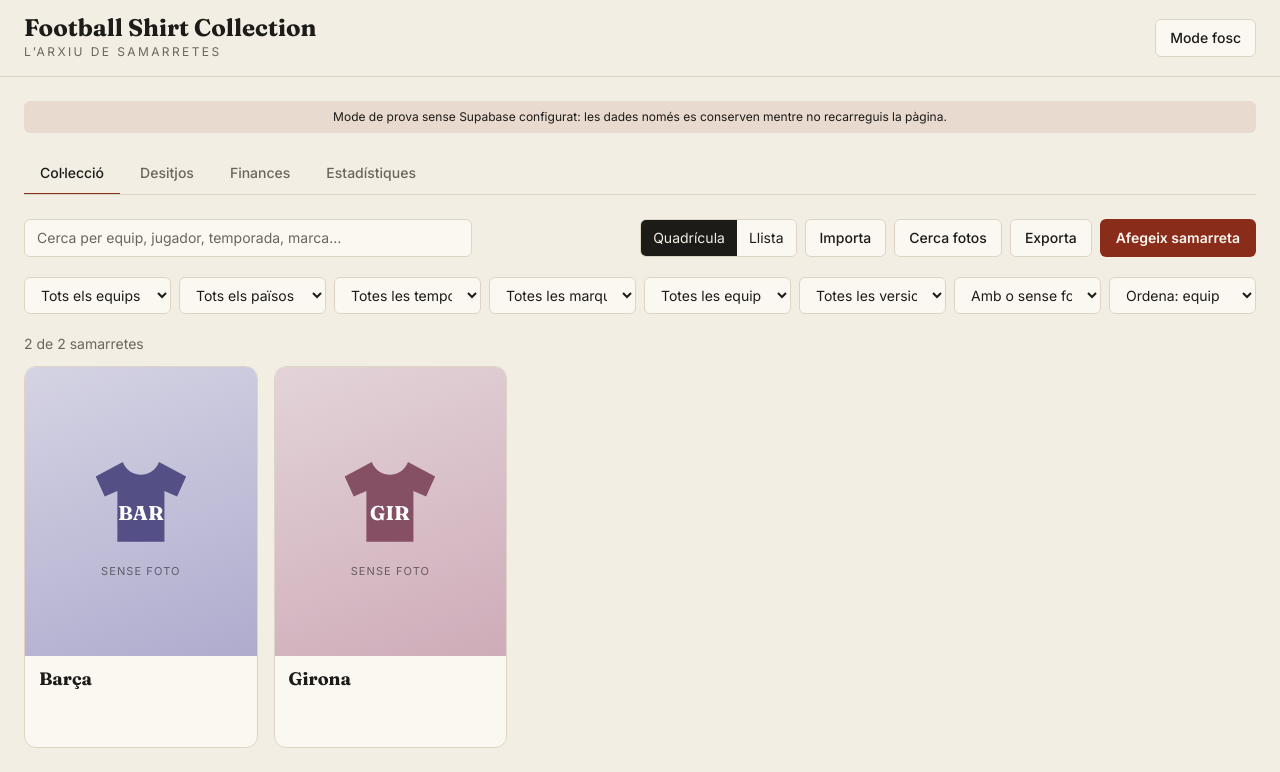
Test: Finances i estadístiques › mostra els imports, mai inventa preus i permet desar un pressupost
The width and height of the screenshot is (1280, 772).
Click the button "Finances".
click(260, 174)  # box [214, 153, 306, 195]
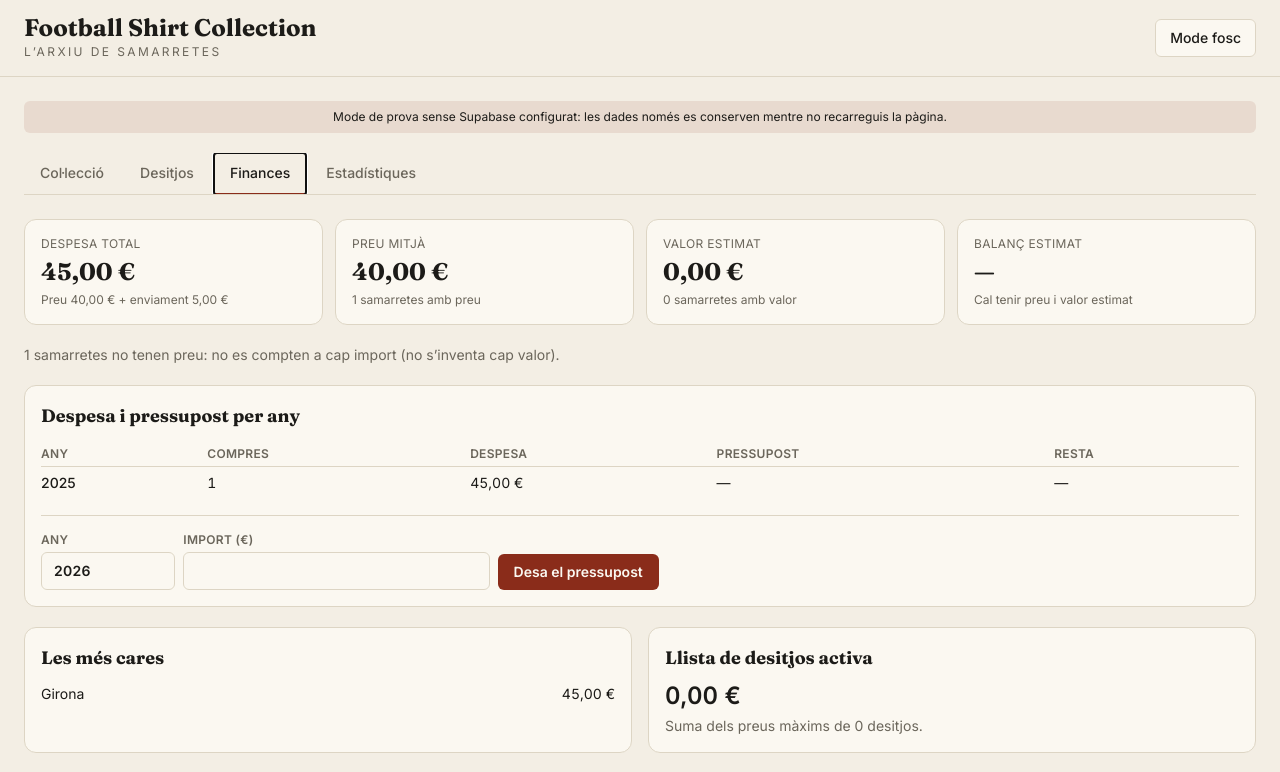
Result: the text "Despesa total" is shown at [41, 236, 141, 251]
Result: the text "1 samarretes no tenen preu" is shown at [24, 346, 560, 363]
Replace the text in the number field named "Any del pressupost" with "2025" at point(108, 571), box [41, 552, 175, 590]
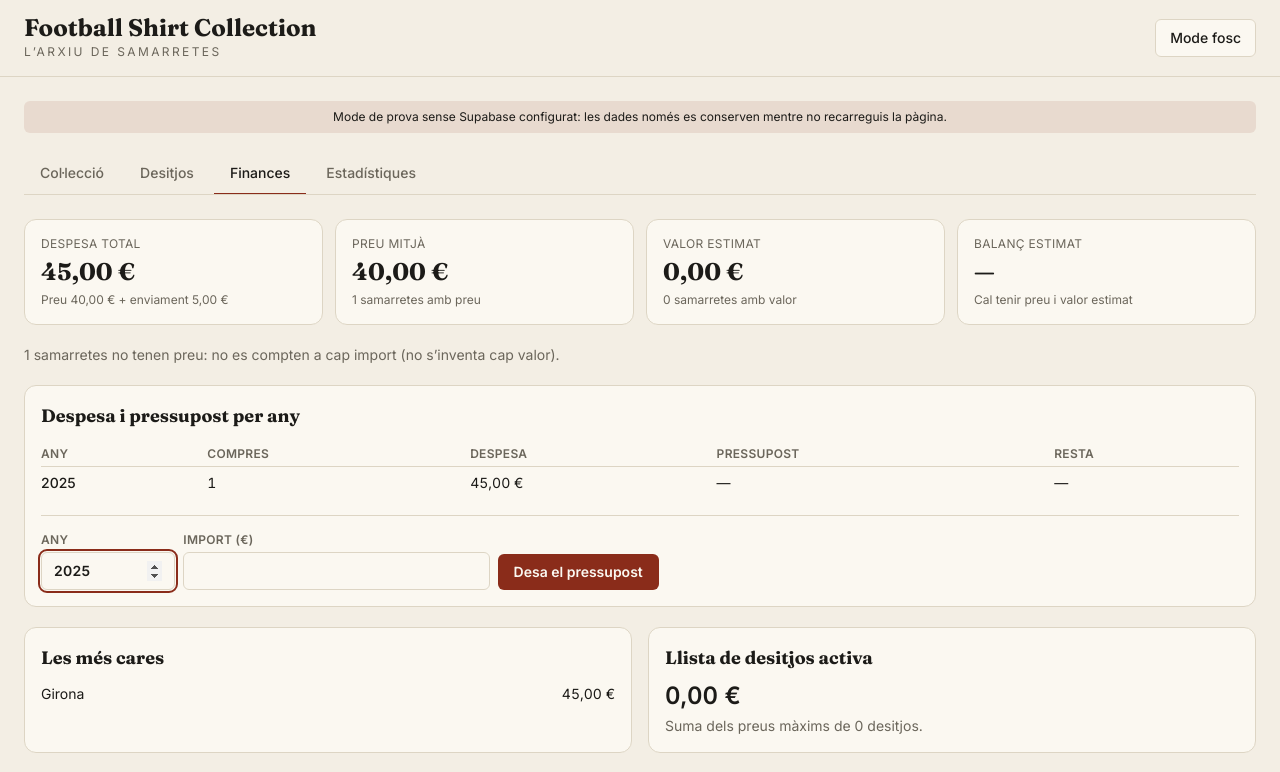
Type "100" into the field named "Import del pressupost".
click(336, 571); type("100")  # box [183, 552, 490, 590]
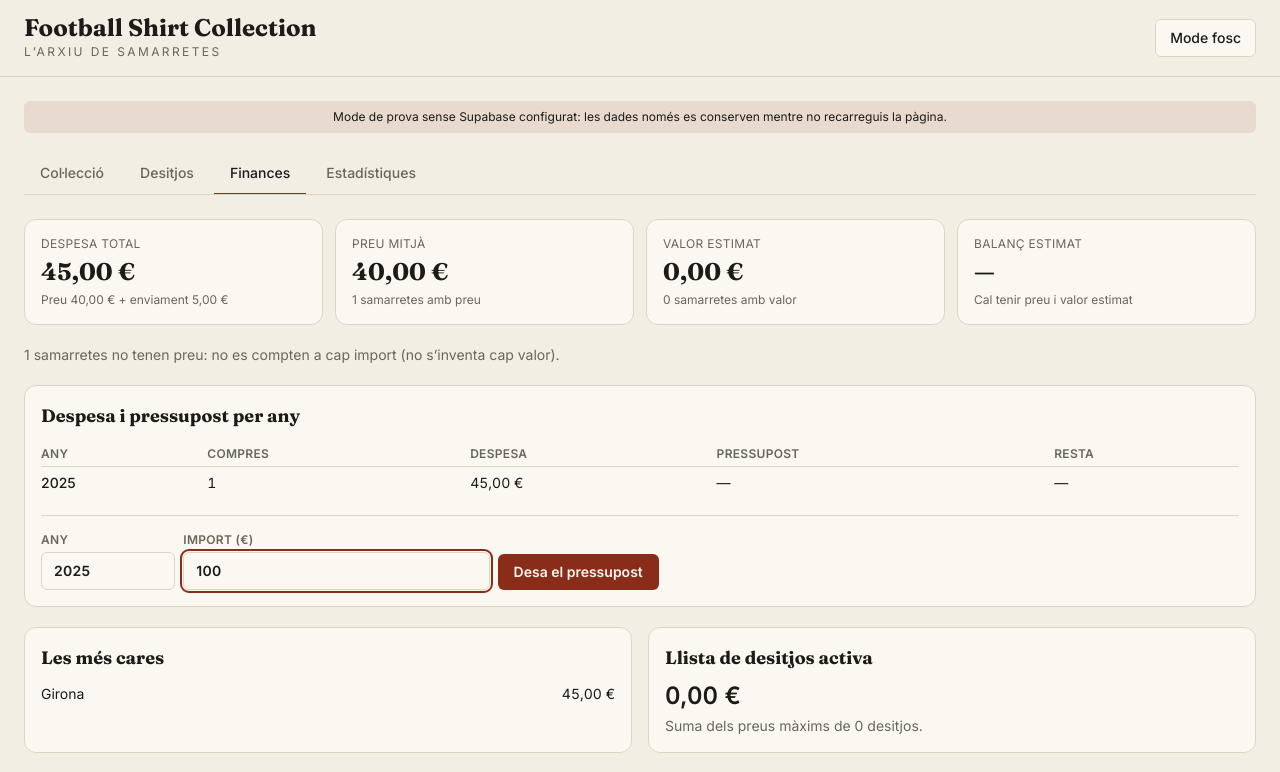
Click the button "Desa el pressupost".
click(578, 572)  # box [498, 554, 659, 590]
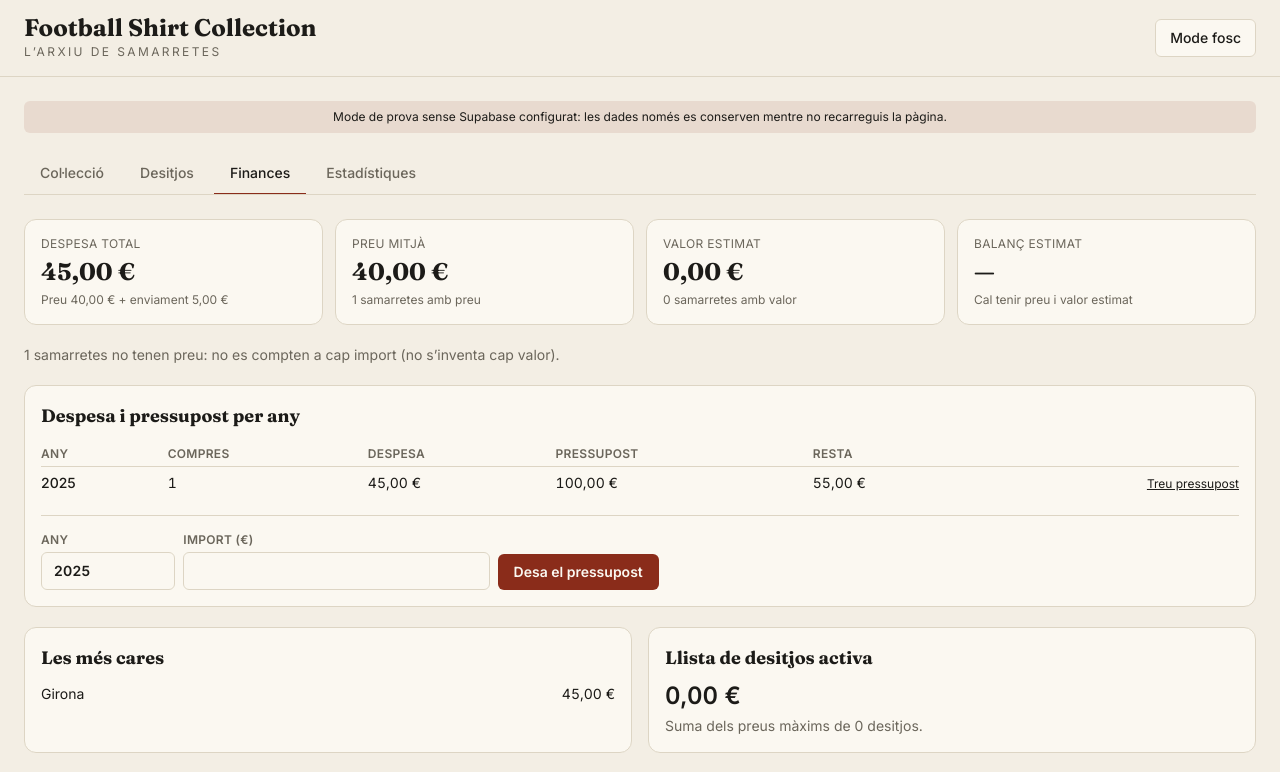
Result: the button with aria-label "Elimina el pressupost de 2025" is shown at [1147, 476, 1239, 492]
